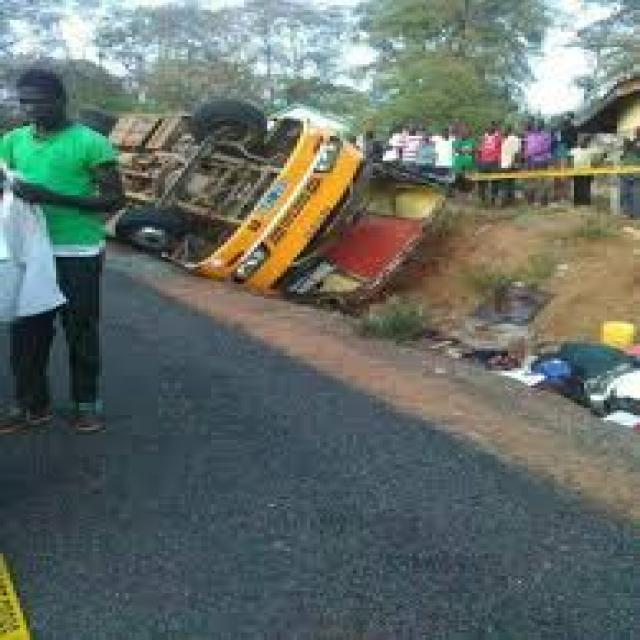accident: (76, 81, 467, 319)
